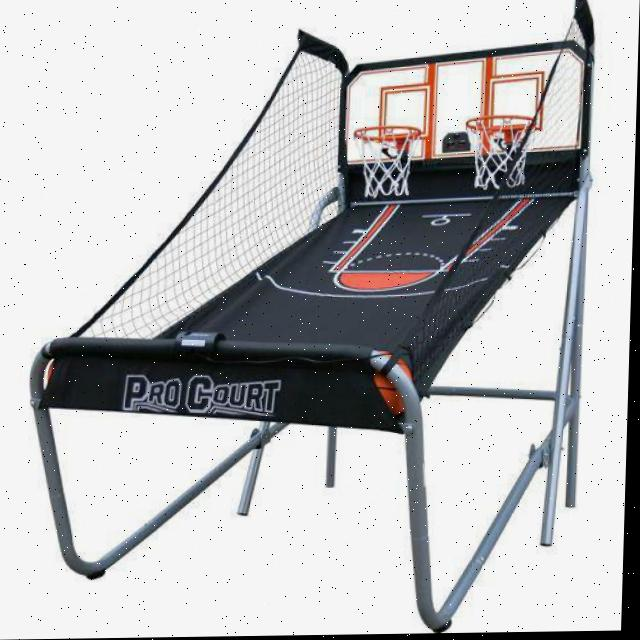basketball: (370, 350, 413, 418), (47, 359, 57, 385)
hoop: (464, 115, 536, 190), (351, 125, 420, 198)
